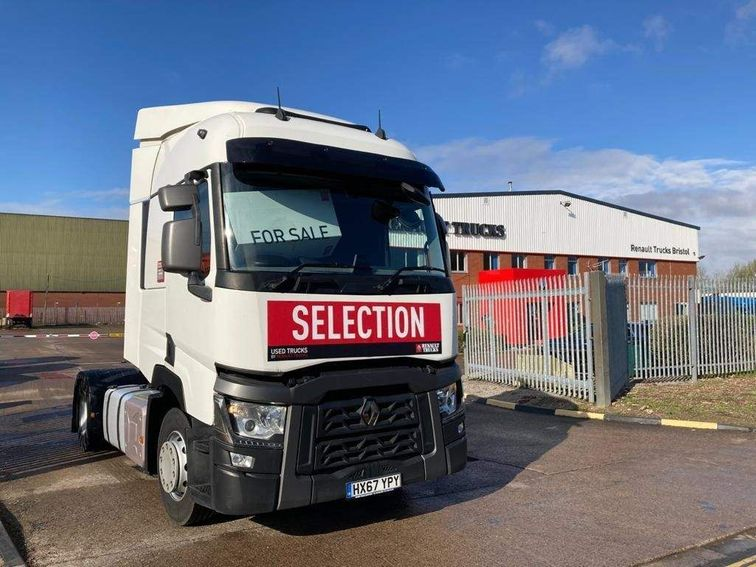Semi: (71, 100, 466, 525)
